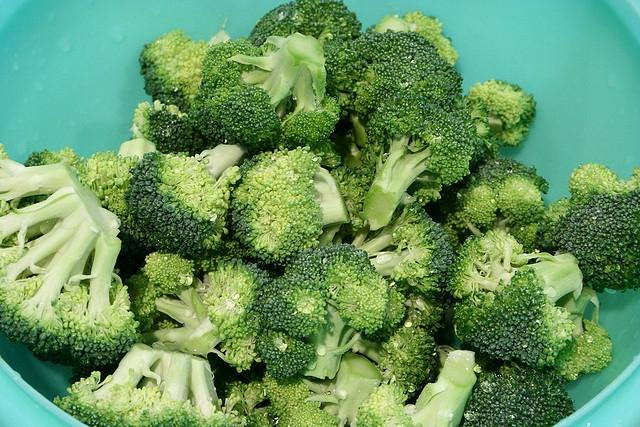broccoli: (0, 154, 145, 378), (445, 230, 584, 370), (248, 243, 388, 379), (184, 32, 340, 154), (318, 29, 466, 148), (132, 251, 274, 373), (52, 343, 247, 427), (230, 146, 351, 280), (360, 92, 474, 231), (544, 164, 638, 292), (357, 202, 458, 300), (356, 349, 478, 427), (262, 351, 382, 427), (138, 28, 232, 114), (463, 362, 576, 427), (352, 323, 437, 399), (77, 138, 156, 216), (553, 286, 613, 381), (247, 2, 362, 47), (468, 78, 538, 148), (376, 10, 459, 67), (129, 99, 205, 157), (330, 166, 370, 245), (494, 174, 546, 226), (223, 380, 279, 427), (456, 95, 492, 150), (328, 118, 362, 170)
